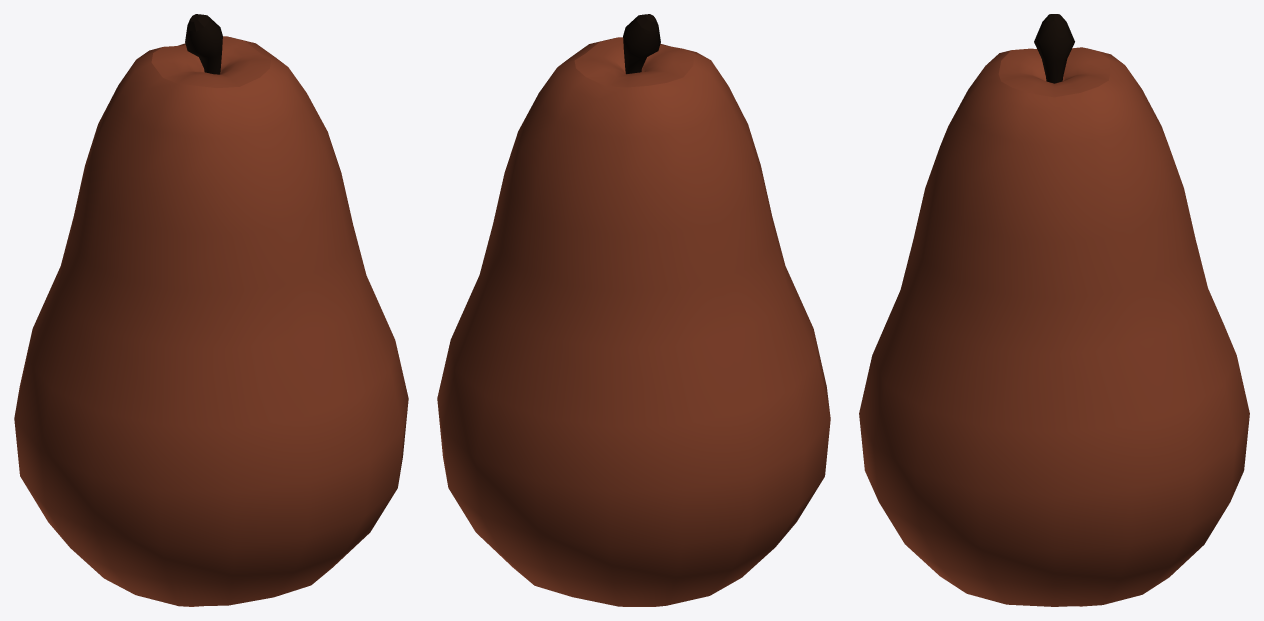
File: Papaya.FBX
3 renders of one model, left to right at view 1: azimuth 30°, elevation 25°; view 2: azimuth 150°, elevation 25°; view 3: azimuth 270°, elevation 25°, orthographic.
Visible parts, largest first — view 1: Papaya; view 2: Papaya; view 3: Papaya.
Part boxes in pixels (x1=…): Papaya: x1=14, y1=14, x2=408, y2=606; Papaya: x1=437, y1=14, x2=830, y2=606; Papaya: x1=859, y1=14, x2=1249, y2=606.
Size of the model in its own units: 753 by 753 by 1211.
